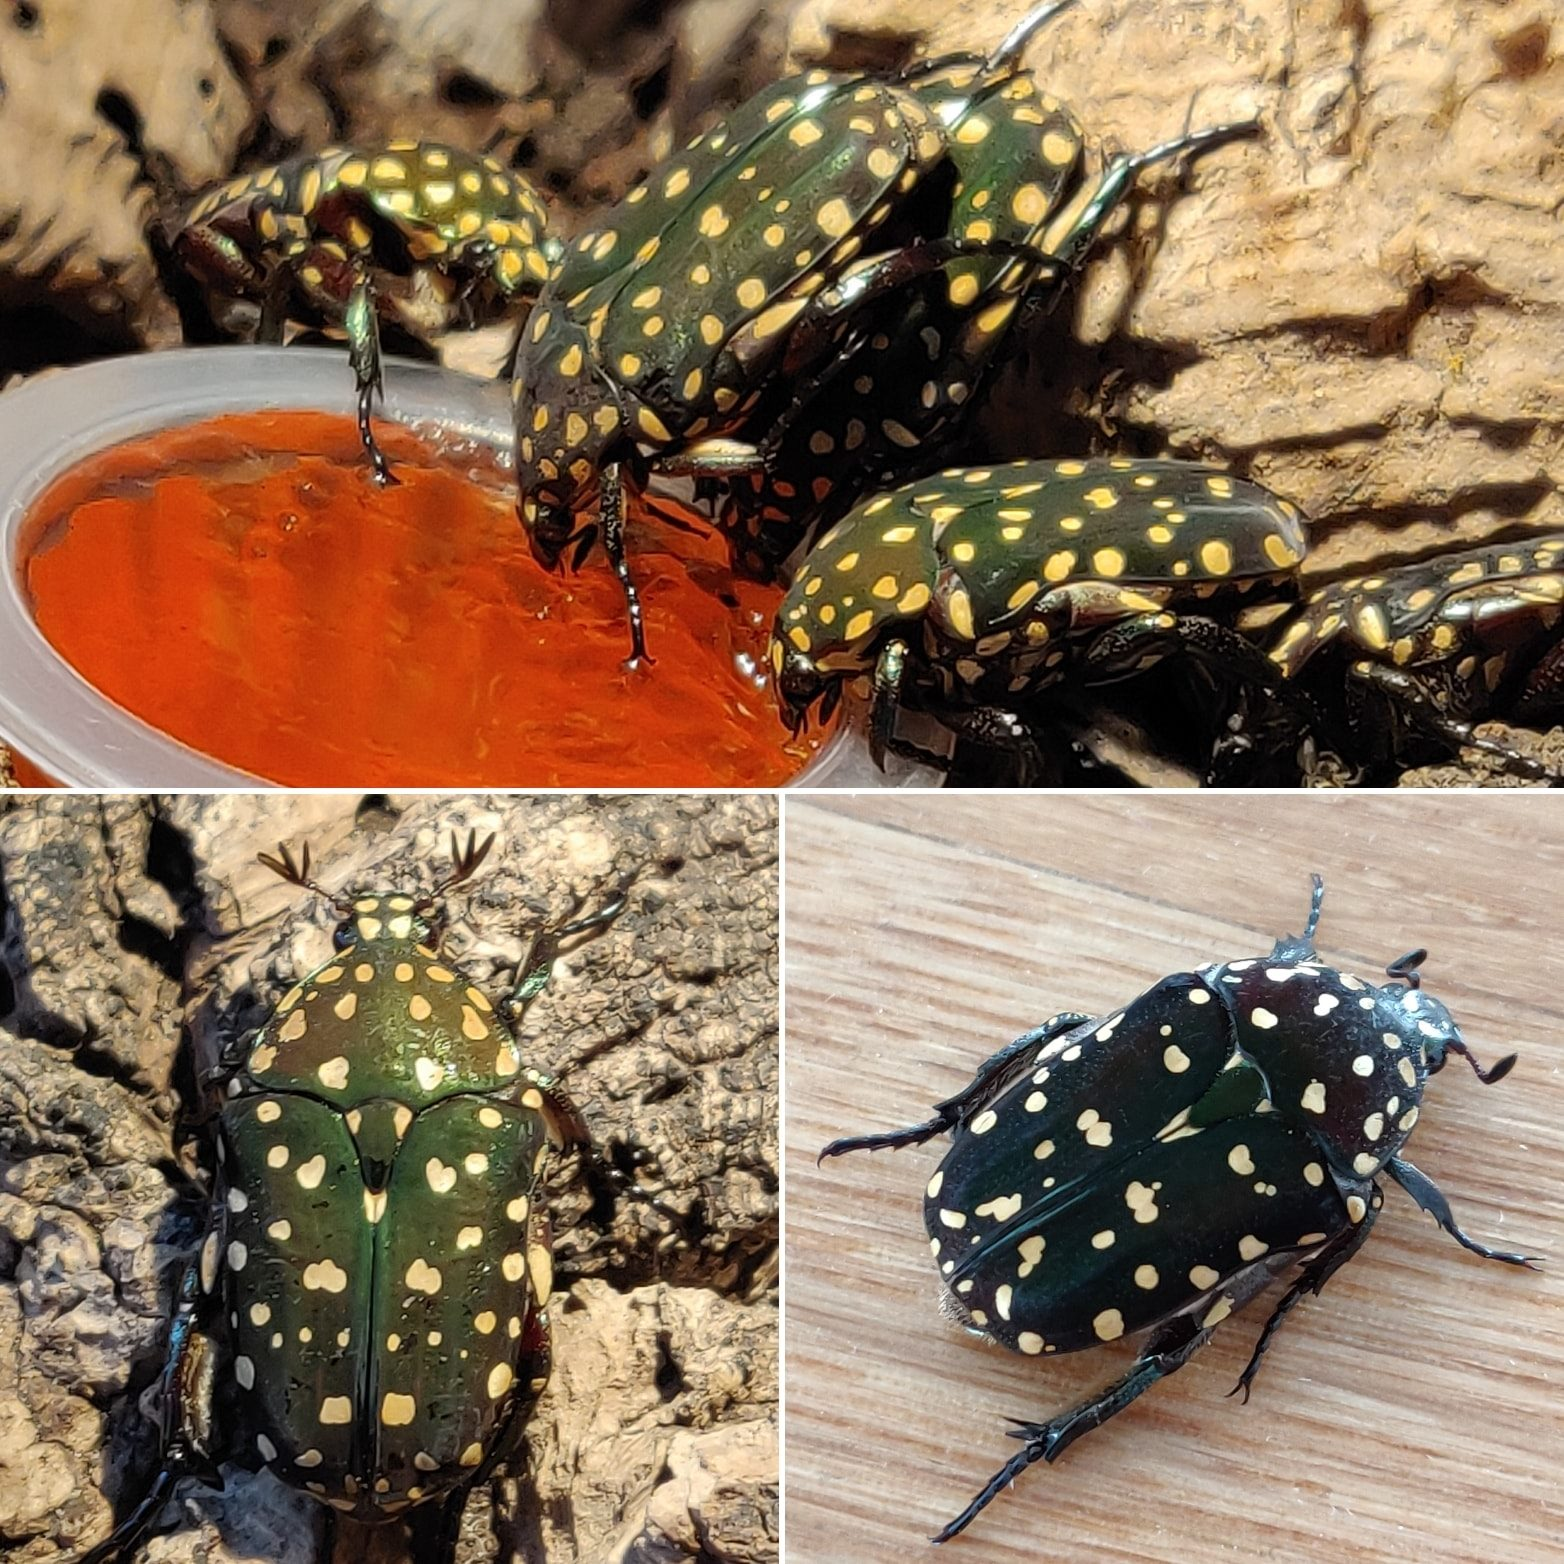Protaetia_niveoguttata: (821, 844, 1550, 1545), (102, 825, 632, 1535), (497, 43, 958, 659), (749, 405, 1336, 765), (120, 125, 539, 501)
